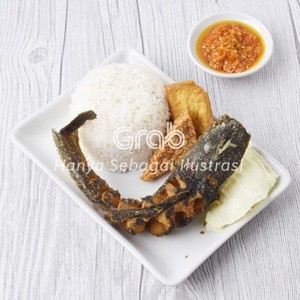pecel_lele: (68, 166, 202, 241)
